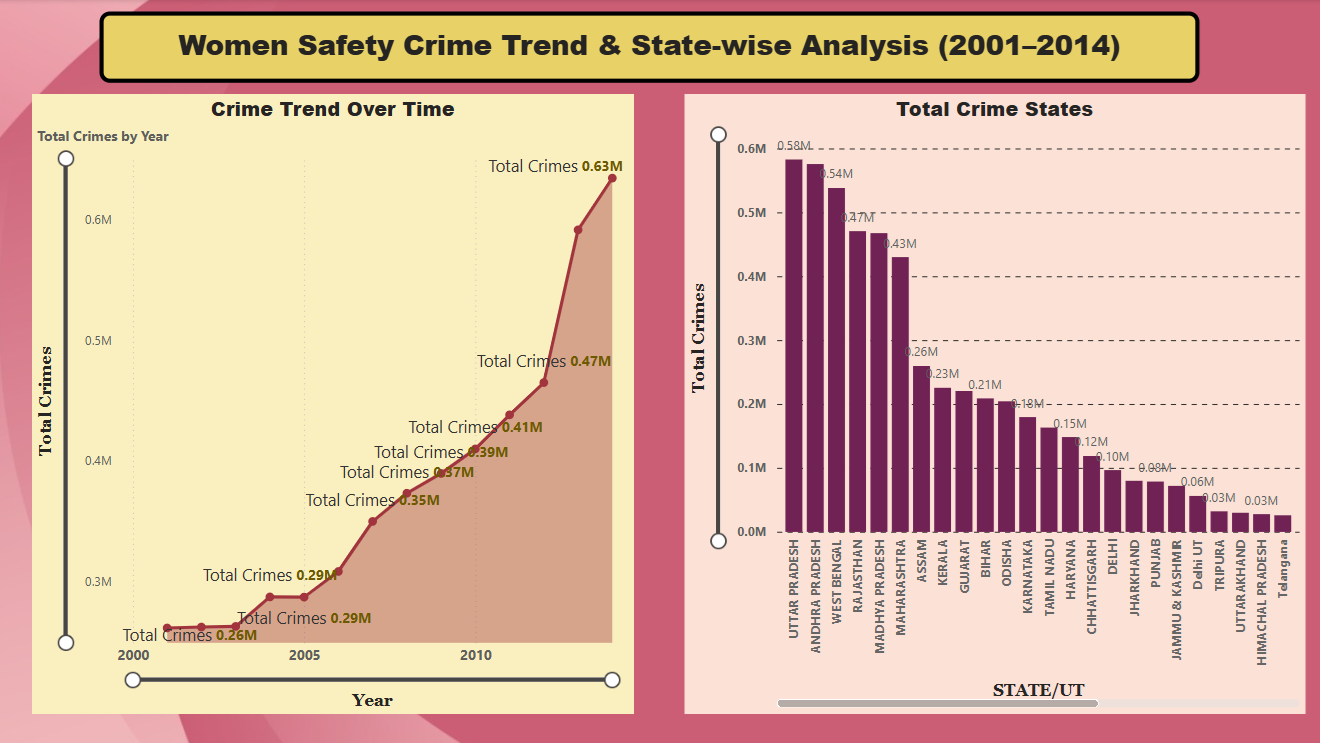

What the dashboard file says about the page in this screenshot:
{"tool":"powerbi","page":{"name":"Page 2","canvas":[1280,720],"ordinal":1},"visuals":[{"type":"lineChart","title":"Crime Trend Over Time","fields":{"Category":["crimes_against_women_2001-2014.Year"],"Y":["crimes_against_women_2001-2014.Total crime"]},"box":[33.2,91.3,580.7,597.3],"z":0},{"type":"clusteredColumnChart","title":"Total Crime States","fields":{"Category":["crimes_against_women_2001-2014.STATE/UT"],"Y":["crimes_against_women_2001-2014.Total crime"]},"box":[663.6,91.3,598.7,597.3],"z":1000},{"type":"textbox","box":[99.5,12.6,1061.8,68.6],"z":2000}]}

Visuals, with their boxes in screenshot pixels (x1, y1, x2, y2), scaled from the page's 1280x720 canvas onto the 1320x743 screenshot:
"Crime Trend Over Time" lineChart: [x1=34, y1=94, x2=633, y2=711]
"Total Crime States" clusteredColumnChart: [x1=684, y1=94, x2=1302, y2=711]
textbox: [x1=103, y1=13, x2=1198, y2=84]
